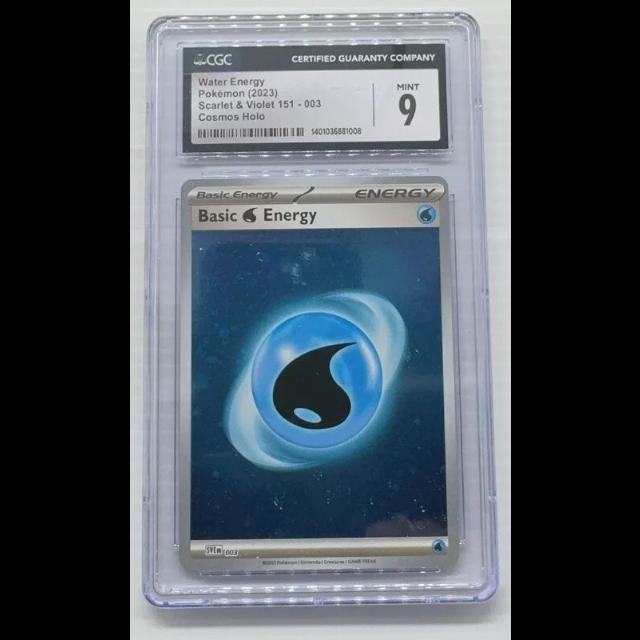card: (177, 176, 461, 573)
cgc_label: (180, 43, 449, 155)
cgc_slab: (141, 12, 501, 609)
